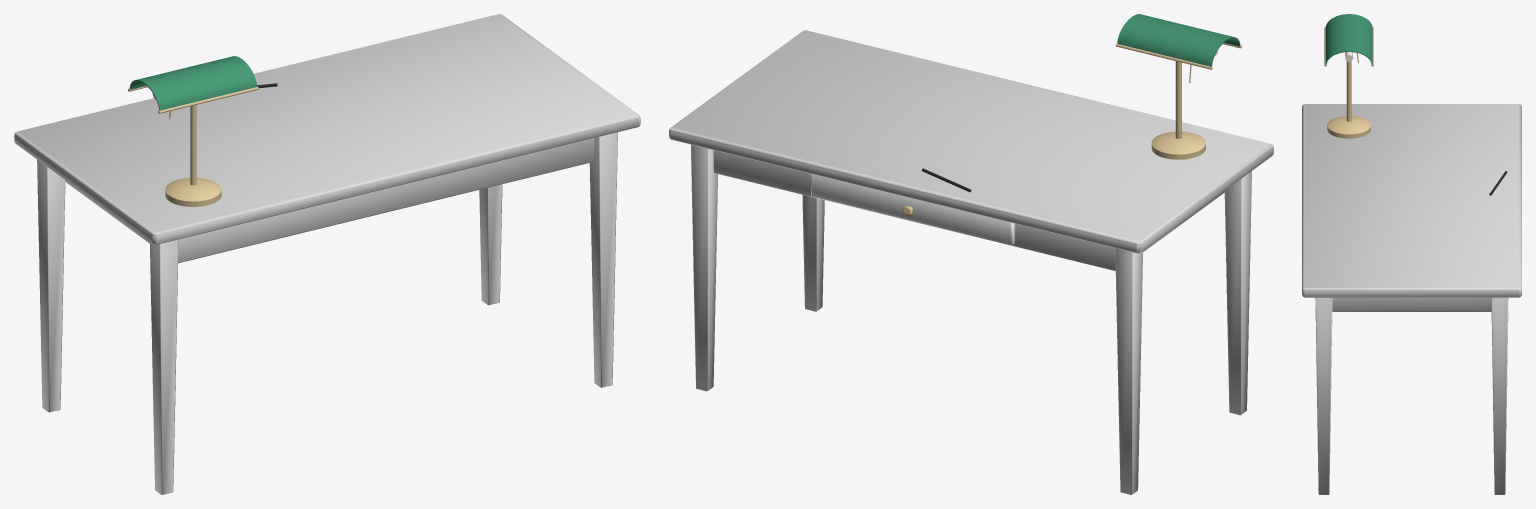
File: SaekiHome_Desk.fbx
The picture shows the model from 3 angles, left to right: view 1: azimuth 30°, elevation 25°; view 2: azimuth 150°, elevation 25°; view 3: azimuth 270°, elevation 25°; orthographic projection. The views are drawn at different scales.
Parts seen in each view (by area): view 1: SaekiHome_Desk; view 2: SaekiHome_Desk; view 3: SaekiHome_Desk.
Boxes of the visible parts, x1,y1,x2,y2 form: SaekiHome_Desk: (14,14,640,494); SaekiHome_Desk: (669,14,1273,494); SaekiHome_Desk: (1302,14,1521,494).
Size of the model in its own units: 1.4 by 1.09 by 0.7.
